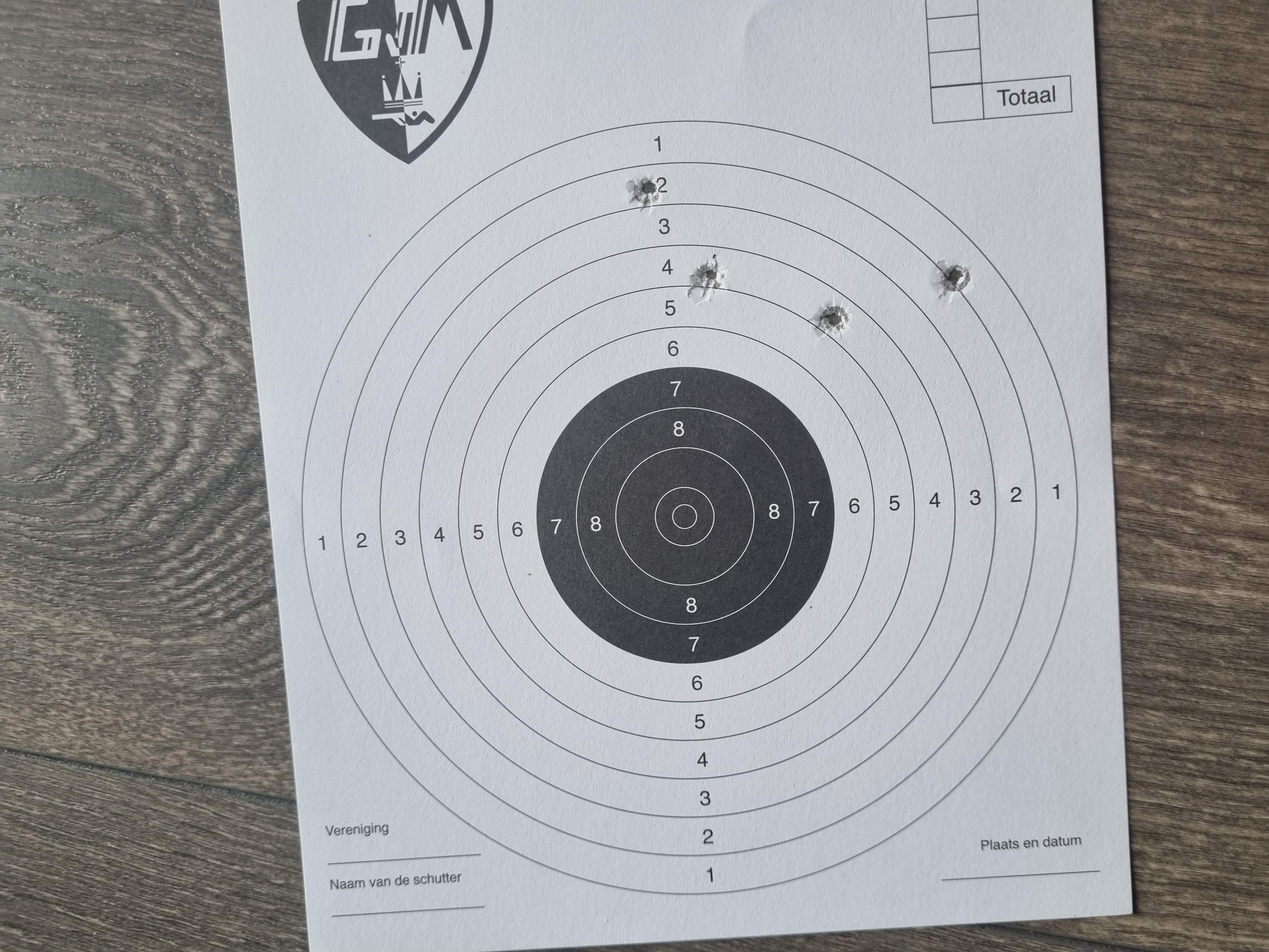hole: (870, 515, 924, 543), (869, 701, 922, 728), (816, 606, 861, 637), (986, 470, 1033, 496)
